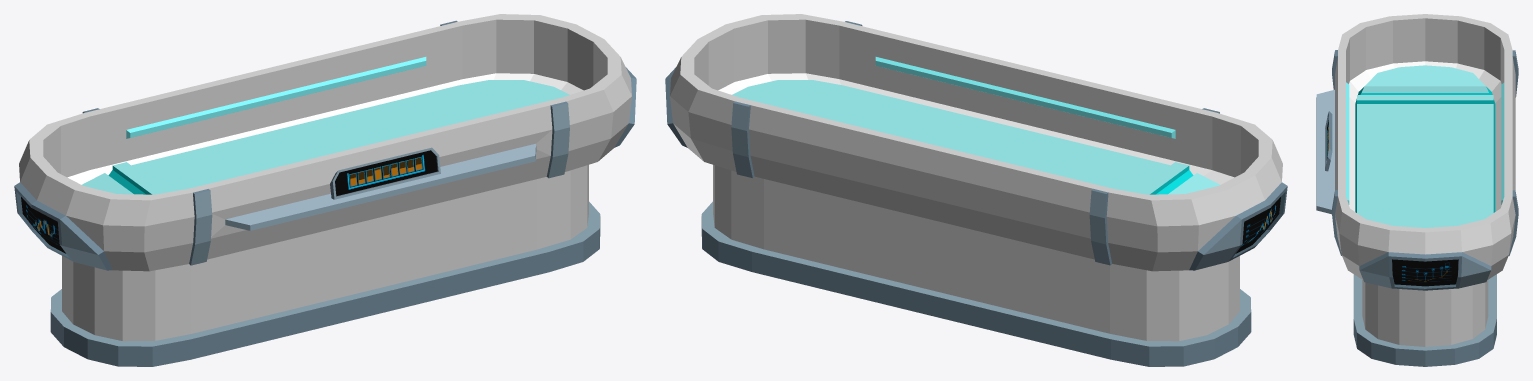
Rendered from CryogenicChamberBase_01.glb.
The picture shows the model from 3 angles, left to right: view 1: azimuth 30°, elevation 25°; view 2: azimuth 150°, elevation 25°; view 3: azimuth 270°, elevation 25°; orthographic projection. The views are drawn at different scales.
Visible parts, largest first — view 1: CryogenicChamberBase_01; view 2: CryogenicChamberBase_01; view 3: CryogenicChamberBase_01.
Part boxes in pixels (x1,y1,x2,y2): CryogenicChamberBase_01: (14,14,636,366); CryogenicChamberBase_01: (665,14,1287,366); CryogenicChamberBase_01: (1316,14,1518,366).
Size of what is drawn, in the model's own units: 3.23 by 0.9225 by 1.2.
Materials: 2 (2 with a texture image).
